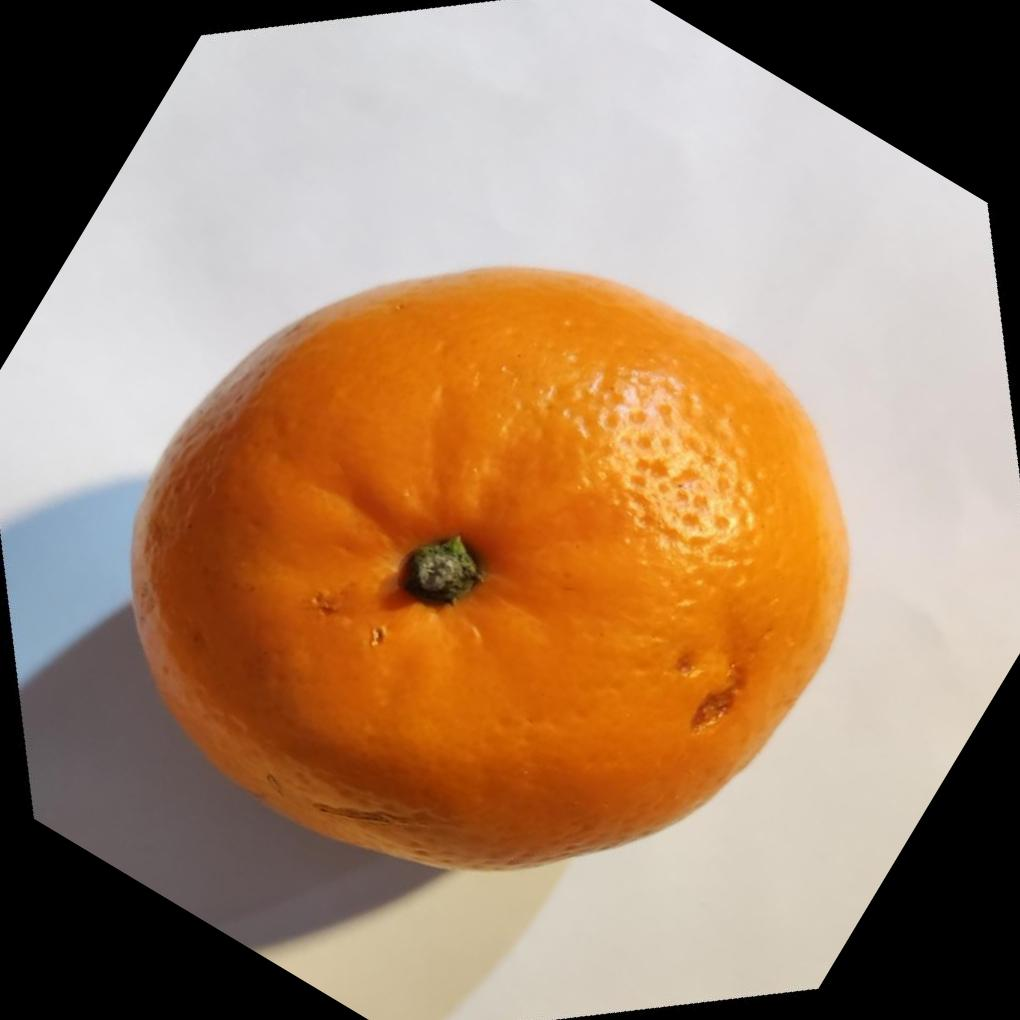FreshGuava: (130, 264, 855, 875)
